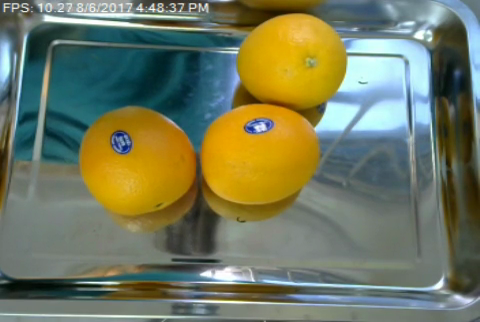Orange: (78, 105, 196, 214), (201, 104, 321, 204), (235, 12, 346, 109)
